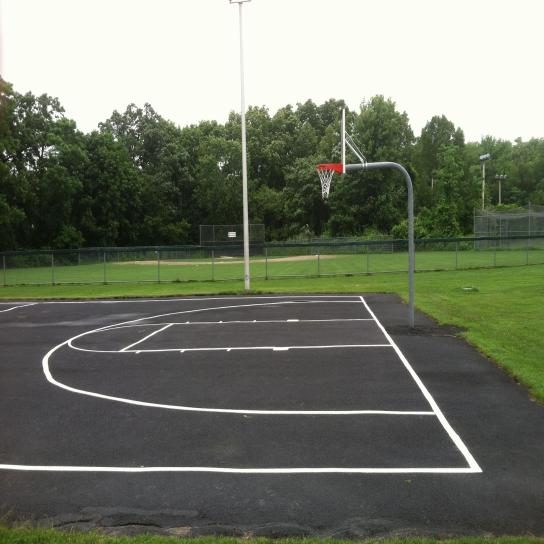basketball-hoop: (314, 162, 338, 200)
